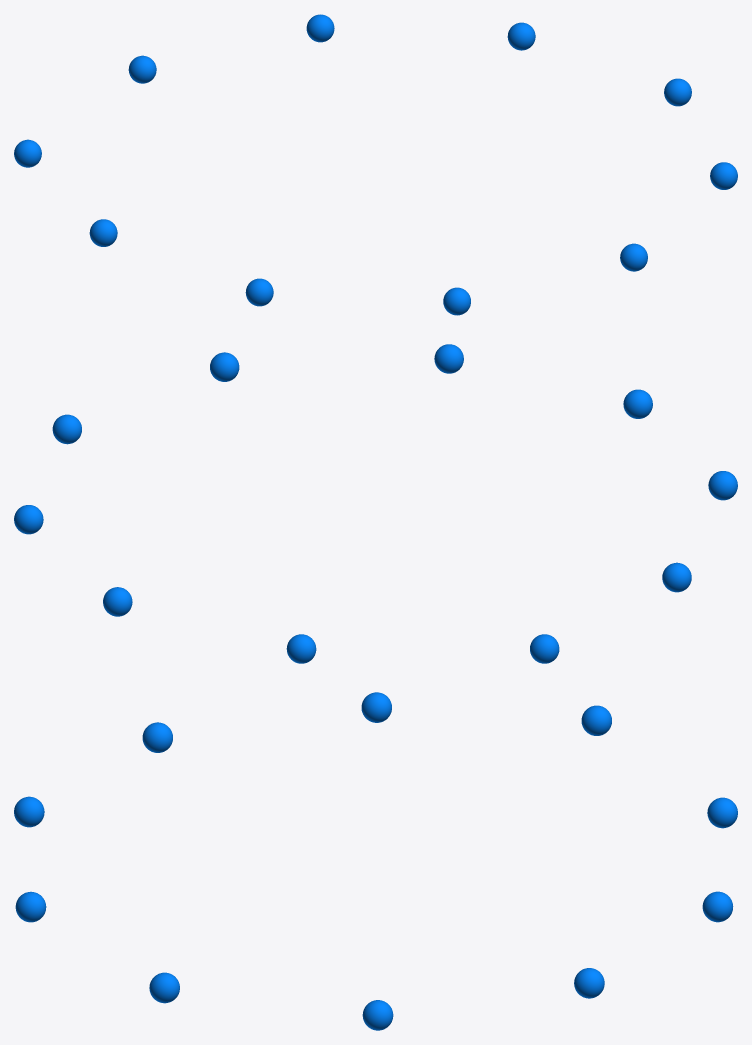
The picture shows the model from 3 angles, top to bottom: view 1: azimuth 30°, elevation 25°; view 2: azimuth 150°, elevation 25°; view 3: azimuth 270°, elevation 25°; orthographic projection. The views are drawn at different scales.
Parts seen in each view (by area): view 1: Sphere052; view 2: Sphere052; view 3: Sphere052.
Part boxes in pixels (x1,y1,x2,y2): Sphere052: [14, 14, 737, 315]; Sphere052: [14, 344, 737, 663]; Sphere052: [14, 692, 737, 1030].
Bounding box in the file's own units: 203 × 8.22 × 194.
